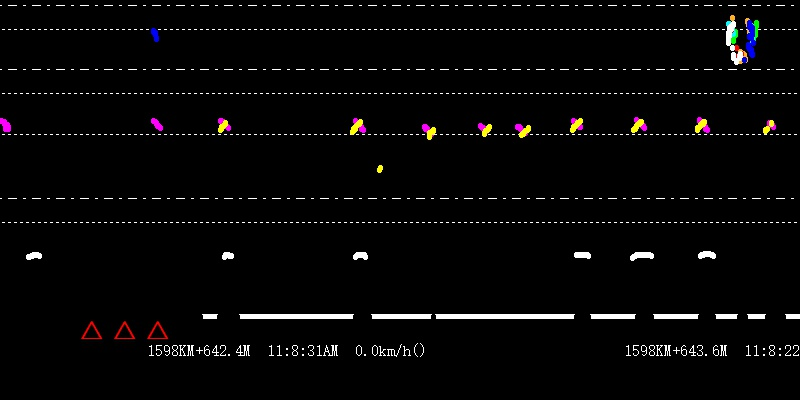J: (723, 2, 758, 67)
face_1: (148, 22, 159, 46)
